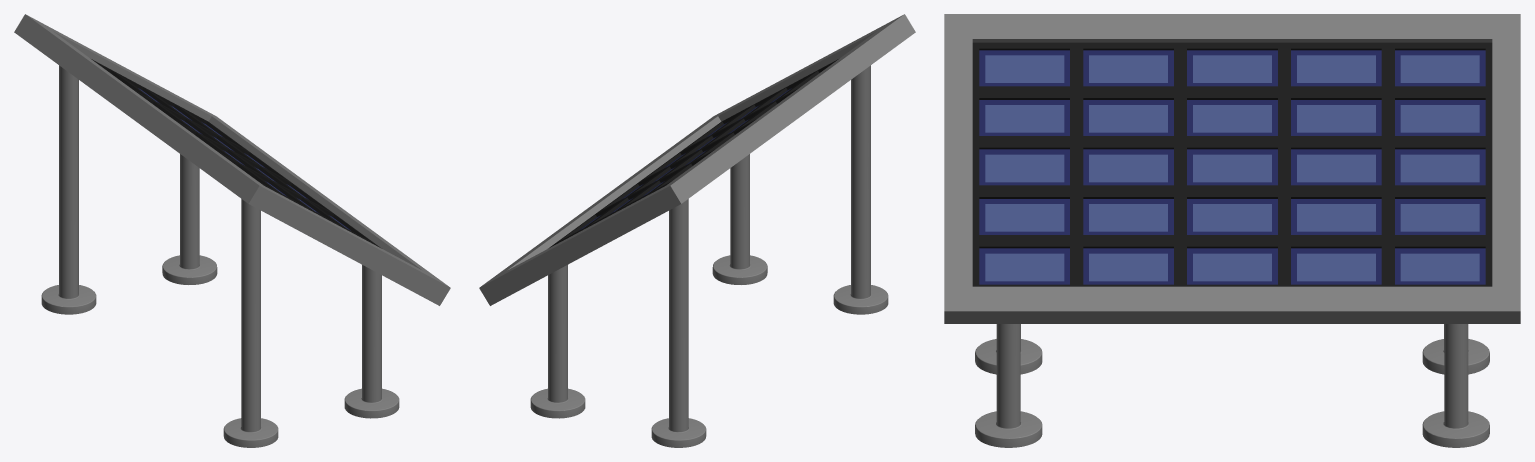
The model's file is solar battery.fbx.
The picture shows the model from 3 angles, left to right: view 1: azimuth 30°, elevation 25°; view 2: azimuth 150°, elevation 25°; view 3: azimuth 270°, elevation 25°; orthographic projection. The views are drawn at different scales.
Parts seen in each view (by area): view 1: Cube; view 2: Cube; view 3: Cube.
Part boxes in pixels (bbox=[...]): Cube: bbox=[14, 14, 450, 447]; Cube: bbox=[479, 14, 915, 447]; Cube: bbox=[944, 14, 1520, 447].
Size of the model in its own units: 117 by 152 by 235.
